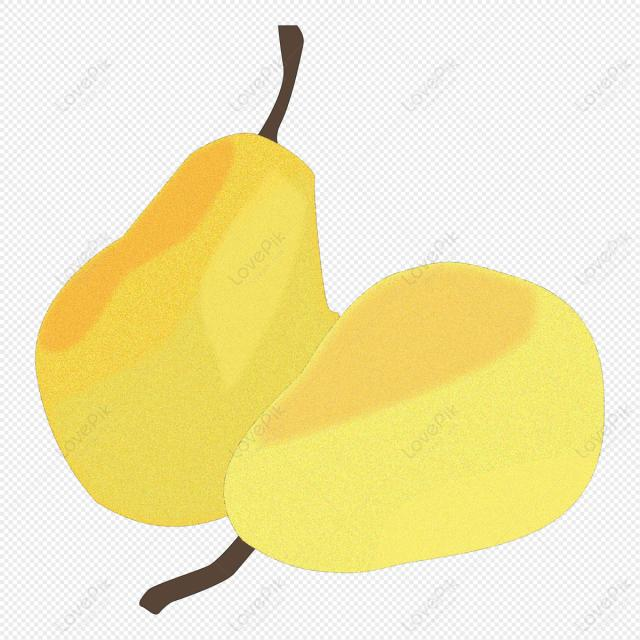pera: (131, 254, 618, 626), (38, 14, 369, 534)
